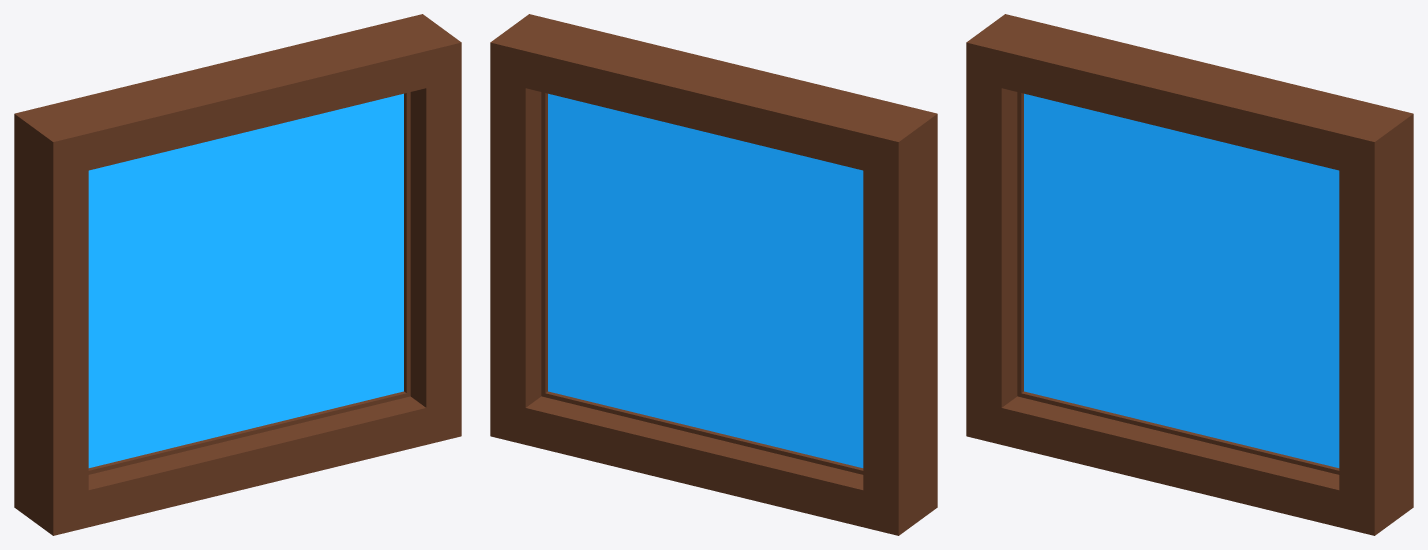
File: janela_quadrada_inteira_madeira.glb
The picture shows the model from 3 angles, left to right: view 1: azimuth 30°, elevation 25°; view 2: azimuth 150°, elevation 25°; view 3: azimuth 330°, elevation 25°; orthographic projection.
Visible parts, largest first — view 1: janela_quadrada_inteira_madeira; view 2: janela_quadrada_inteira_madeira; view 3: janela_quadrada_inteira_madeira.
Part boxes in pixels (box(x1,y1,x2,y2)): janela_quadrada_inteira_madeira: box(14, 14, 461, 535); janela_quadrada_inteira_madeira: box(490, 14, 937, 535); janela_quadrada_inteira_madeira: box(966, 14, 1413, 535).
Size of the model in its own units: 1.27 by 1.17 by 0.21.
